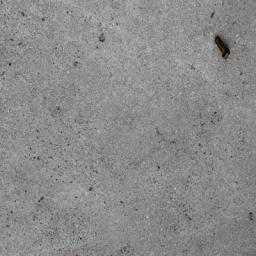FOD: (214, 33, 233, 63)
